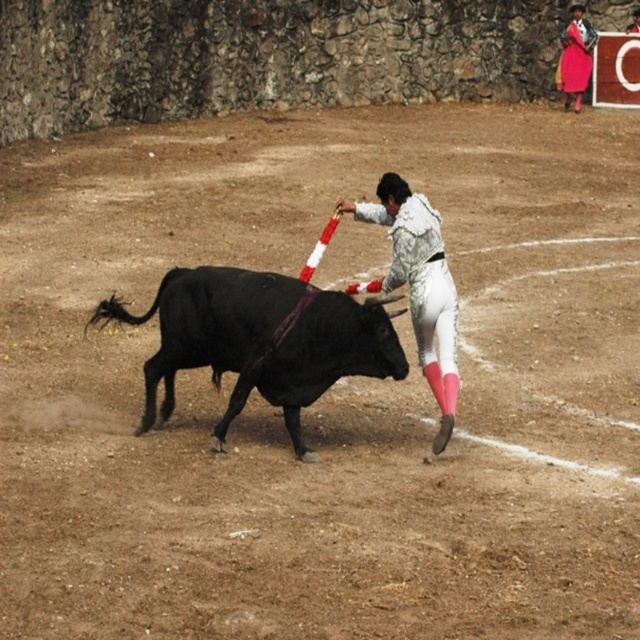Bull: (82, 260, 410, 462)
